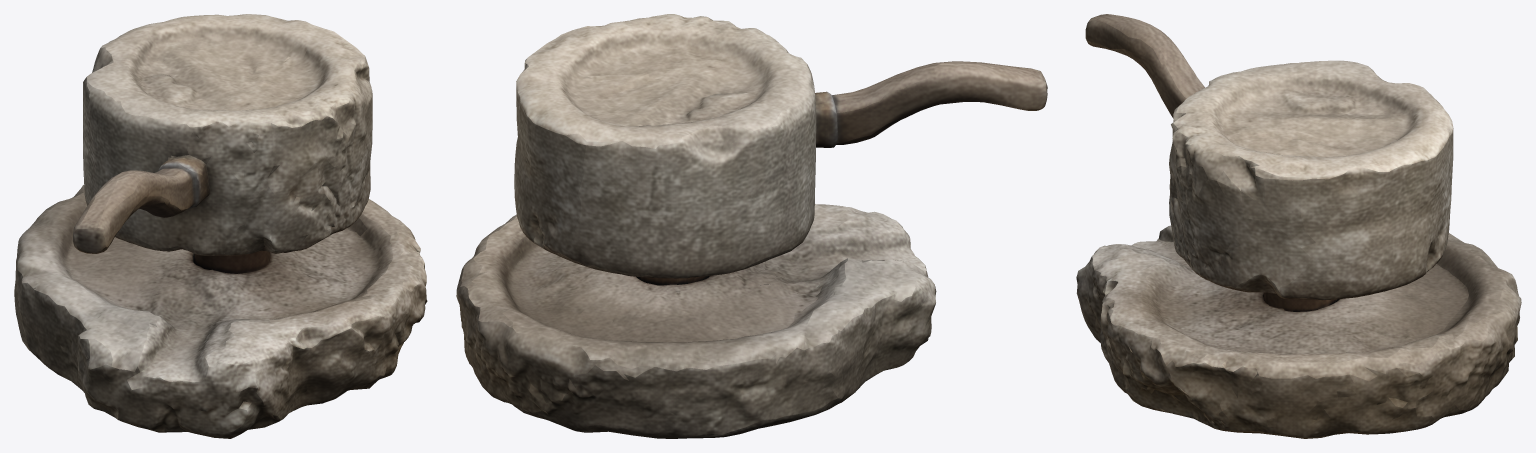
File: quern.glb
3 views of the same model, side by side, from view 1: azimuth 30°, elevation 25°; view 2: azimuth 150°, elevation 25°; view 3: azimuth 270°, elevation 25° (orthographic). The views are drawn at different scales.
Parts seen in each view (by area): view 1: world; view 2: world; view 3: world.
Boxes of the visible parts, left/top/right/bottom form: world: left=14, top=14, right=427, bottom=438; world: left=456, top=14, right=1047, bottom=438; world: left=1076, top=14, right=1521, bottom=438.
Size of the model in its own units: 0.35 by 0.2151 by 0.3284.
1 material, 1 textured.
